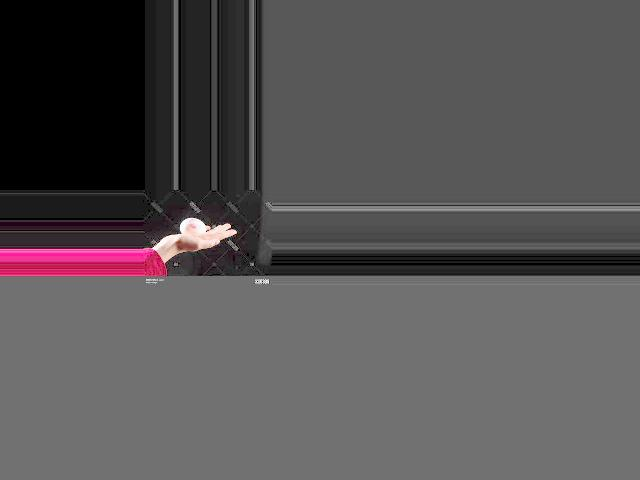egg: (179, 218, 205, 235)
